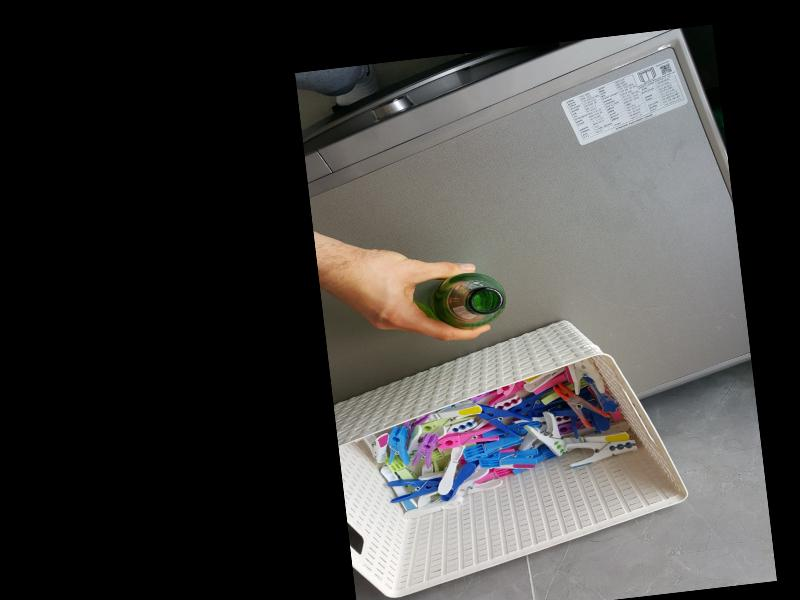Beer: (424, 268, 508, 332)
